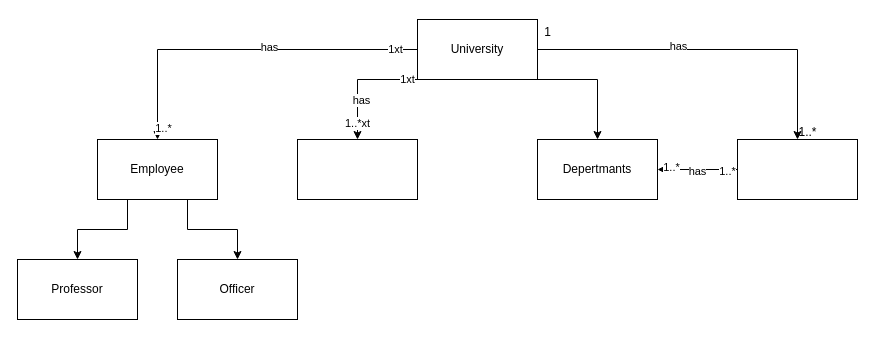
The diagram is 875 pixels wide and 337 high, and some of its shapes have lost their labels. The centre of each missing label's shape, as x and y in pixels:
Classes: the point at 357,169
Ofices: the point at 797,169
